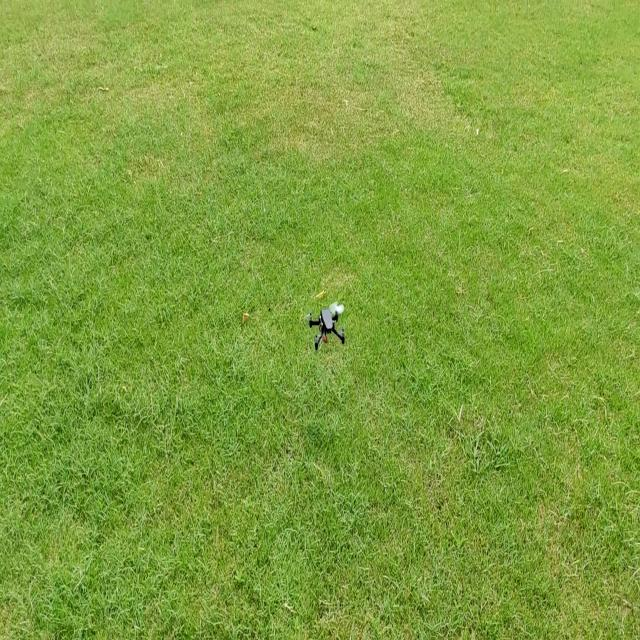drone: (295, 281, 359, 367)
